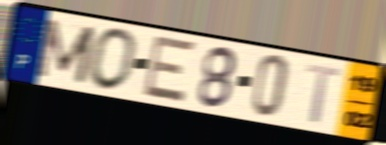0: (251, 54, 294, 121)
8: (196, 44, 238, 111)
E: (140, 33, 199, 105)
M: (33, 16, 98, 87)
O: (87, 25, 141, 93)
T: (305, 61, 344, 126)
